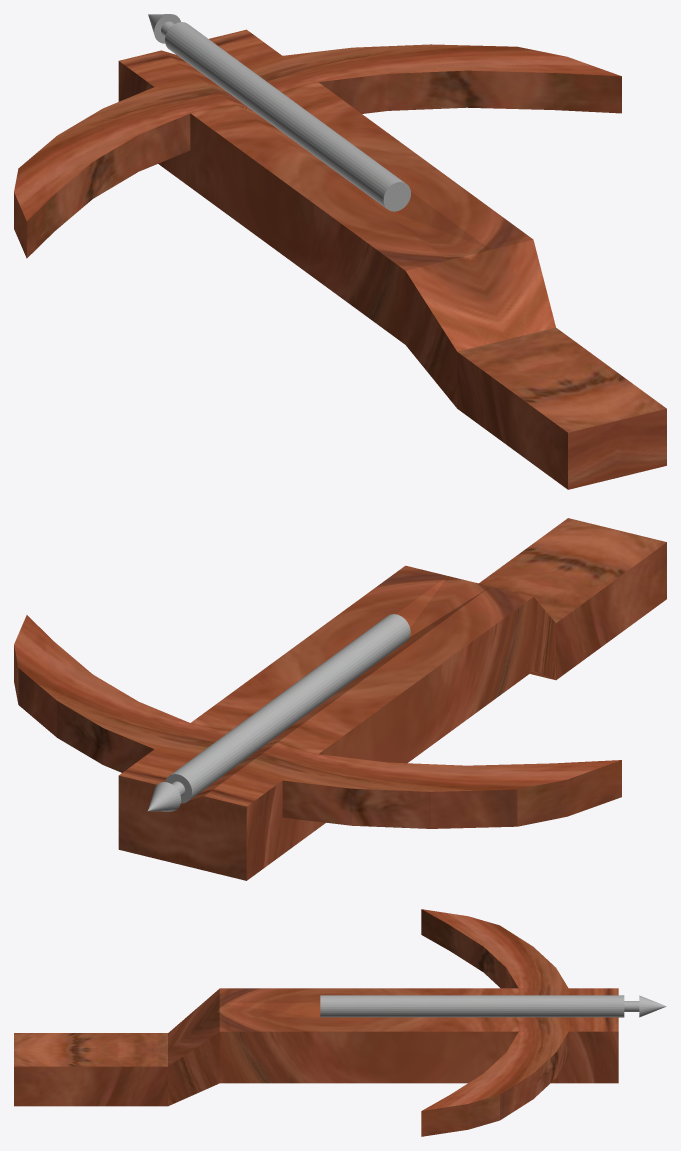
The model's file is crossbow.obj.
3 views of the same model, one above another, from view 1: azimuth 30°, elevation 25°; view 2: azimuth 150°, elevation 25°; view 3: azimuth 270°, elevation 25° (orthographic). The views are drawn at different scales.
Visible parts, largest first — view 1: Crossbow_Shaft, Cylinder; view 2: Crossbow_Shaft, Cylinder; view 3: Crossbow_Shaft, Cylinder.
Part boxes in pixels (box(x1,y1,x2,y2)): Crossbow_Shaft: box(14, 29, 666, 489); Cylinder: box(148, 14, 410, 211); Crossbow_Shaft: box(14, 518, 666, 880); Cylinder: box(148, 614, 410, 811); Crossbow_Shaft: box(14, 909, 618, 1136); Cylinder: box(320, 995, 666, 1017).
Bounding box in the file's own units: 0.9515 × 0.2047 × 1.3.
